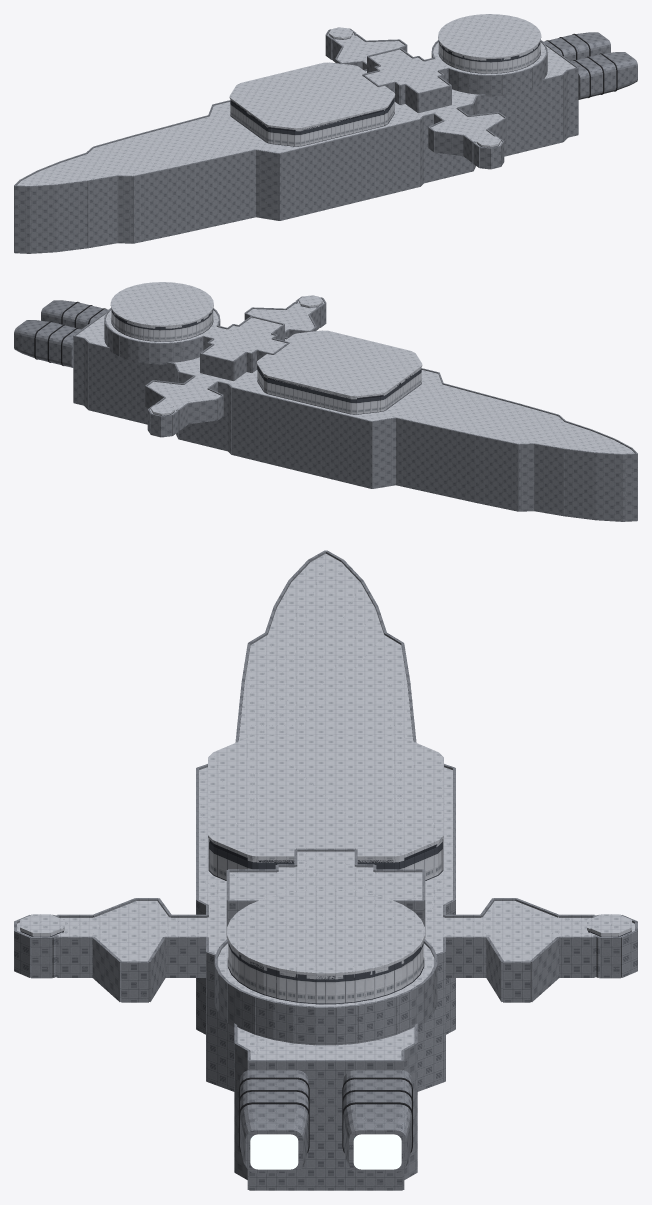
The model's file is odyssey2-walk.glb.
3 views of the same model, one above another, from view 1: azimuth 30°, elevation 25°; view 2: azimuth 150°, elevation 25°; view 3: azimuth 270°, elevation 25° (orthographic). The views are drawn at different scales.
Bounding box in the file's own units: 136 × 21.8 × 63.4.
Materials: 73 (48 with a texture image).
